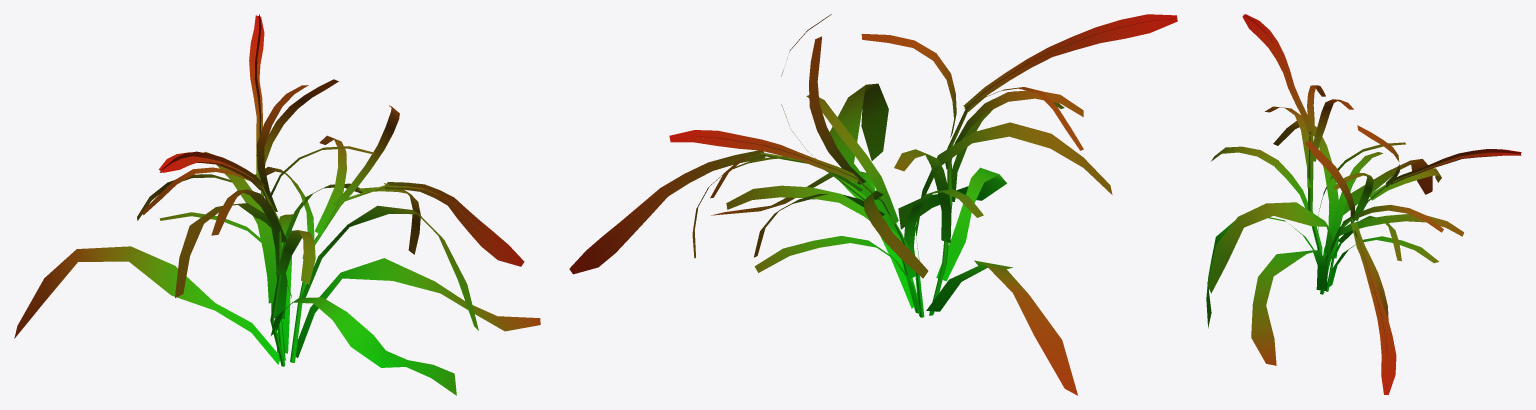
File: Great Brome_LOD1_Var3_tjugaikia.fbx
3 renders of one model, left to right at view 1: azimuth 30°, elevation 25°; view 2: azimuth 150°, elevation 25°; view 3: azimuth 270°, elevation 25°, orthographic. The views are drawn at different scales.
Visible parts, largest first — view 1: _33b2_Var3_LOD1; view 2: _33b2_Var3_LOD1; view 3: _33b2_Var3_LOD1.
Boxes of the visible parts, x1,y1,x2,y2 form: _33b2_Var3_LOD1: (14, 14, 540, 395); _33b2_Var3_LOD1: (569, 14, 1177, 395); _33b2_Var3_LOD1: (1206, 14, 1521, 394).
Bounding box in the file's own units: 55.79 × 30.53 × 40.85.
